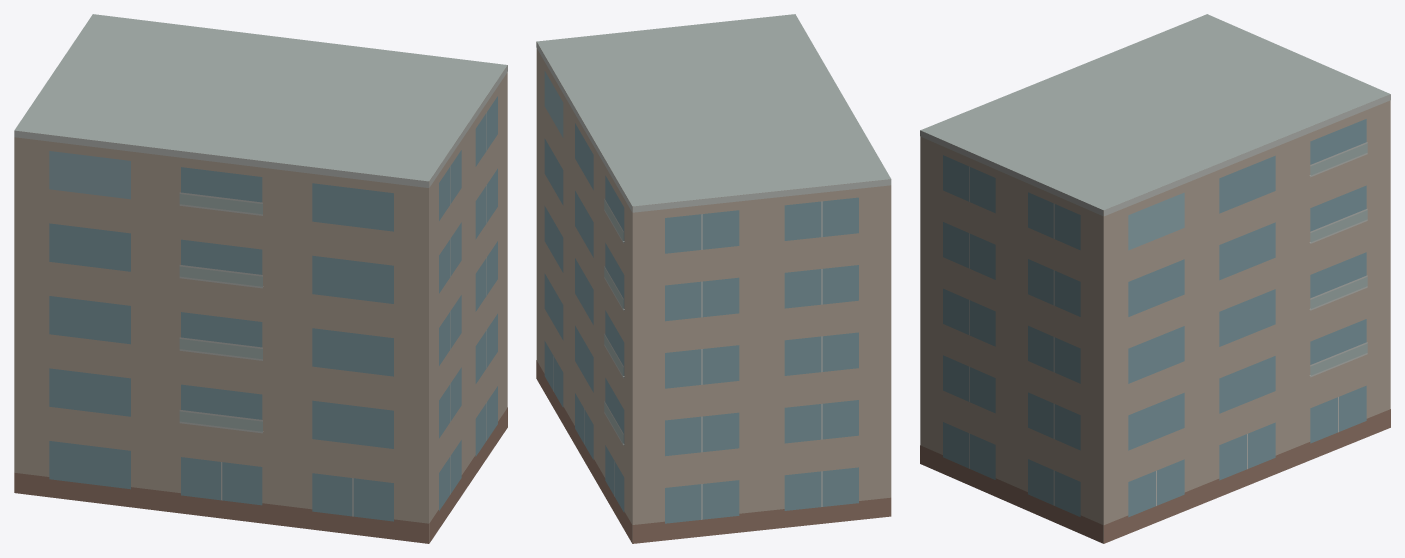
File: survey-upis-32842758.glb
The picture shows the model from 3 angles, left to right: view 1: azimuth 30°, elevation 25°; view 2: azimuth 150°, elevation 25°; view 3: azimuth 270°, elevation 25°; orthographic projection. The views are drawn at different scales.
Parts seen in each view (by area): view 1: survey-upis-32842758.tmp; view 2: survey-upis-32842758.tmp; view 3: survey-upis-32842758.tmp.
Part boxes in pixels (x1,y1,x2,y2): survey-upis-32842758.tmp: [14, 14, 507, 543]; survey-upis-32842758.tmp: [536, 14, 891, 543]; survey-upis-32842758.tmp: [920, 14, 1390, 543].
Bounding box in the file's own units: 16.68 × 13.2 × 16.88.
